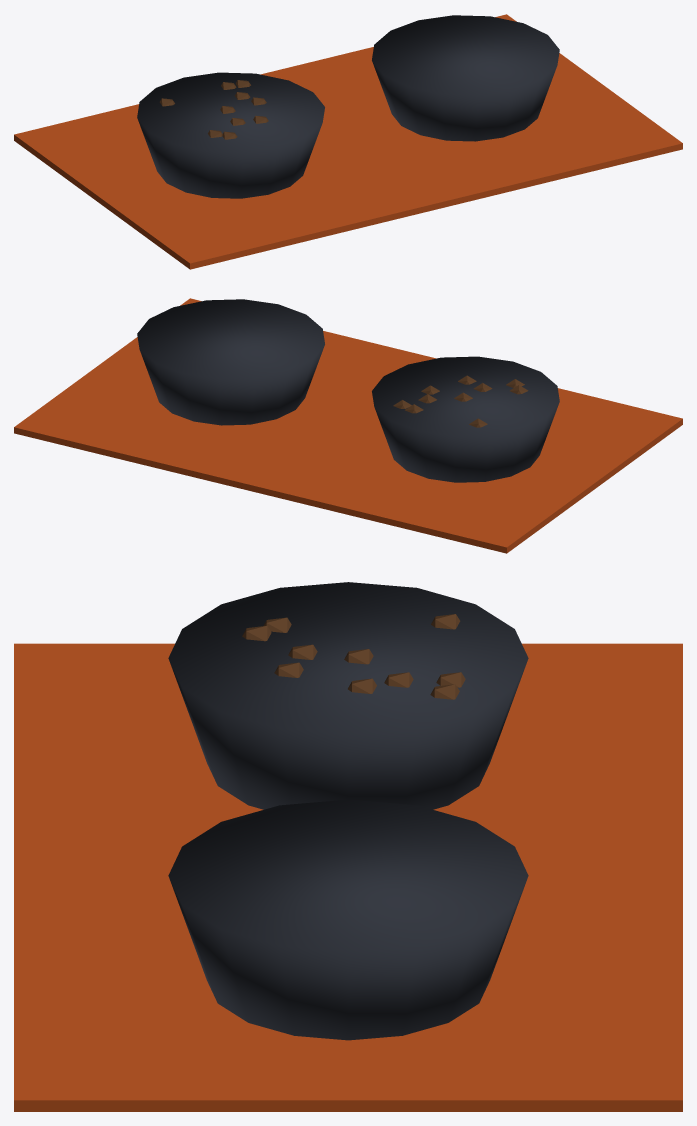
File: Deco_PetBowls.glb
3 views of the same model, one above another, from view 1: azimuth 30°, elevation 25°; view 2: azimuth 150°, elevation 25°; view 3: azimuth 270°, elevation 25° (orthographic). The views are drawn at different scales.
Parts seen in each view (by area): view 1: Deco_PetBowls; view 2: Deco_PetBowls; view 3: Deco_PetBowls.
Part boxes in pixels (x1,y1,x2,y2): Deco_PetBowls: (14,14,682,269); Deco_PetBowls: (14,298,682,553); Deco_PetBowls: (14,582,682,1111).
Bounding box in the file's own units: 0.42 × 0.0527 × 0.26.
